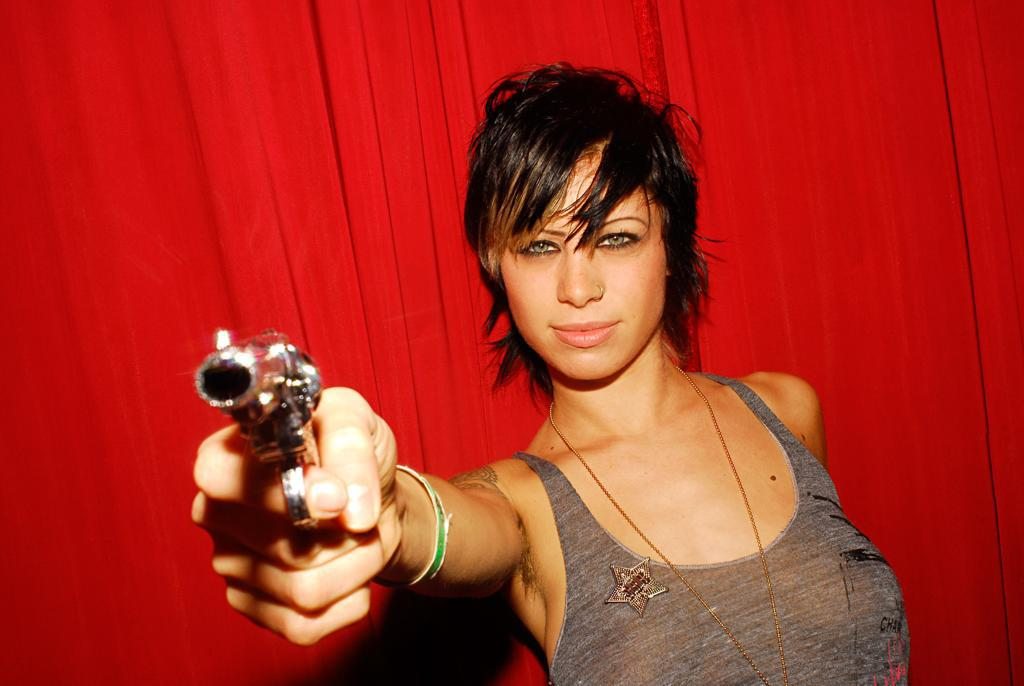face: (497, 139, 665, 383)
